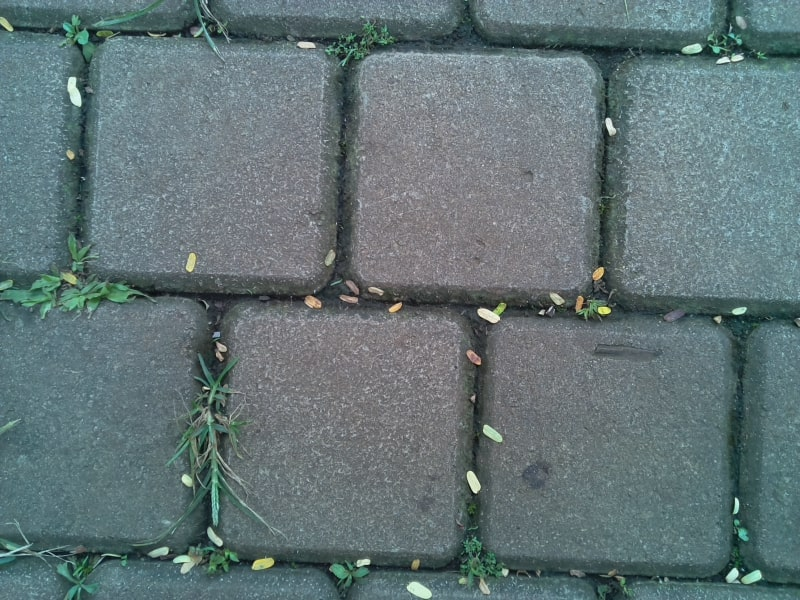Weed: (21, 239, 148, 313), (176, 370, 242, 511), (52, 550, 135, 599), (332, 25, 396, 62), (61, 16, 113, 58), (461, 537, 501, 584), (708, 32, 765, 61), (331, 561, 370, 591), (201, 548, 241, 570), (595, 577, 625, 598), (583, 299, 610, 318), (732, 520, 753, 544)
